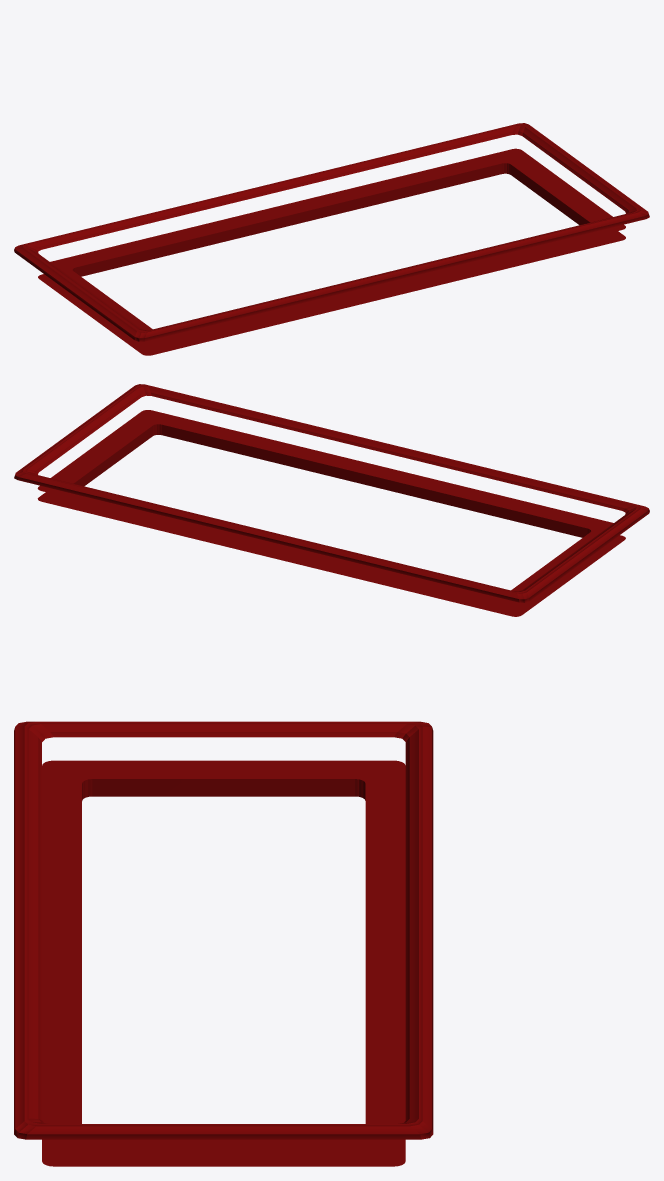
File: DoormeshMicrowaveDoorC9_1_GeomSubset_1.obj
3 views of the same model, one above another, from view 1: azimuth 30°, elevation 25°; view 2: azimuth 150°, elevation 25°; view 3: azimuth 270°, elevation 25° (orthographic). The views are drawn at different scales.
Parts seen in each view (by area): view 1: DoormeshMicrowaveDoorC9_1_GeomSubset_1; view 2: DoormeshMicrowaveDoorC9_1_GeomSubset_1; view 3: DoormeshMicrowaveDoorC9_1_GeomSubset_1.
Part boxes in pixels (x1,y1,x2,y2): DoormeshMicrowaveDoorC9_1_GeomSubset_1: (14, 123, 649, 355); DoormeshMicrowaveDoorC9_1_GeomSubset_1: (14, 384, 649, 616); DoormeshMicrowaveDoorC9_1_GeomSubset_1: (14, 721, 433, 1166).
Bounding box in the file's own units: 0.4208 × 0.1292 × 0.2734.
